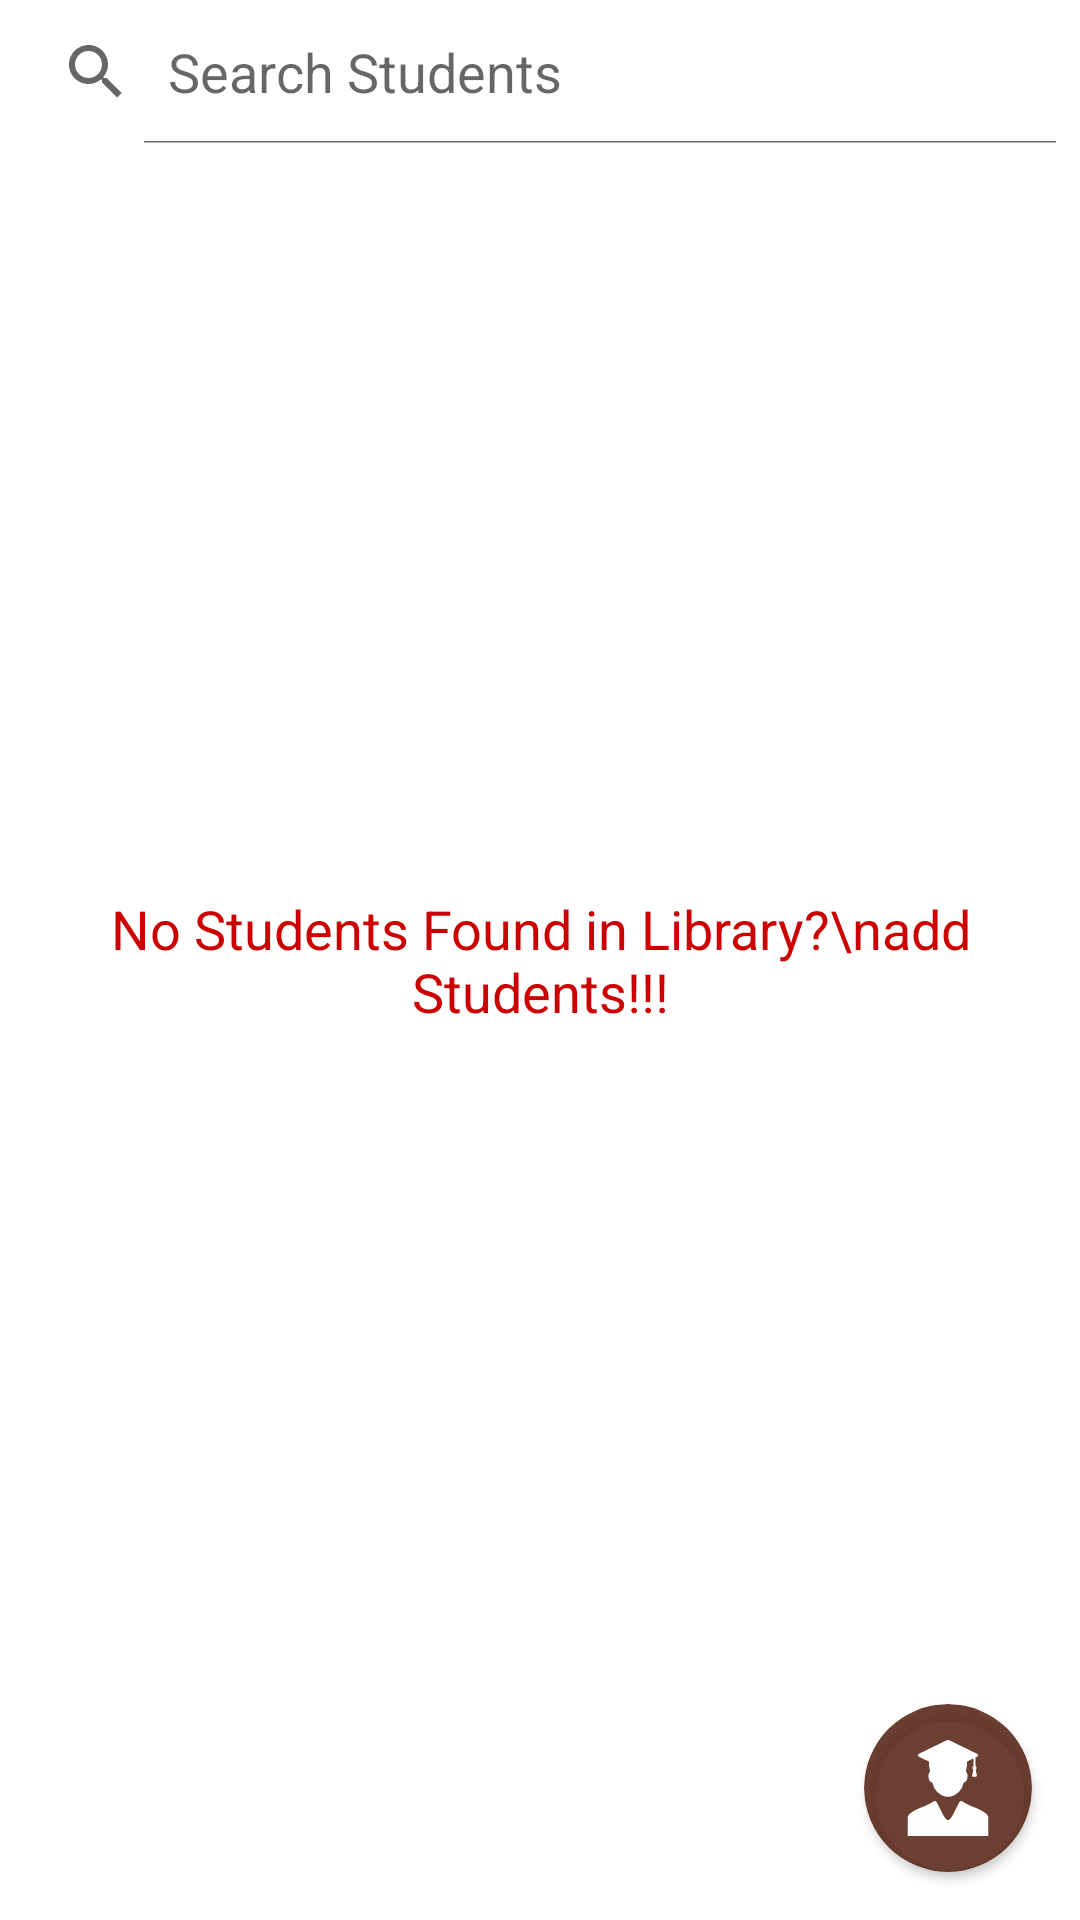

Screen size 1080 x 1920. Icon name, then its center in pixels as [x,y]:
student: [948,1788]
